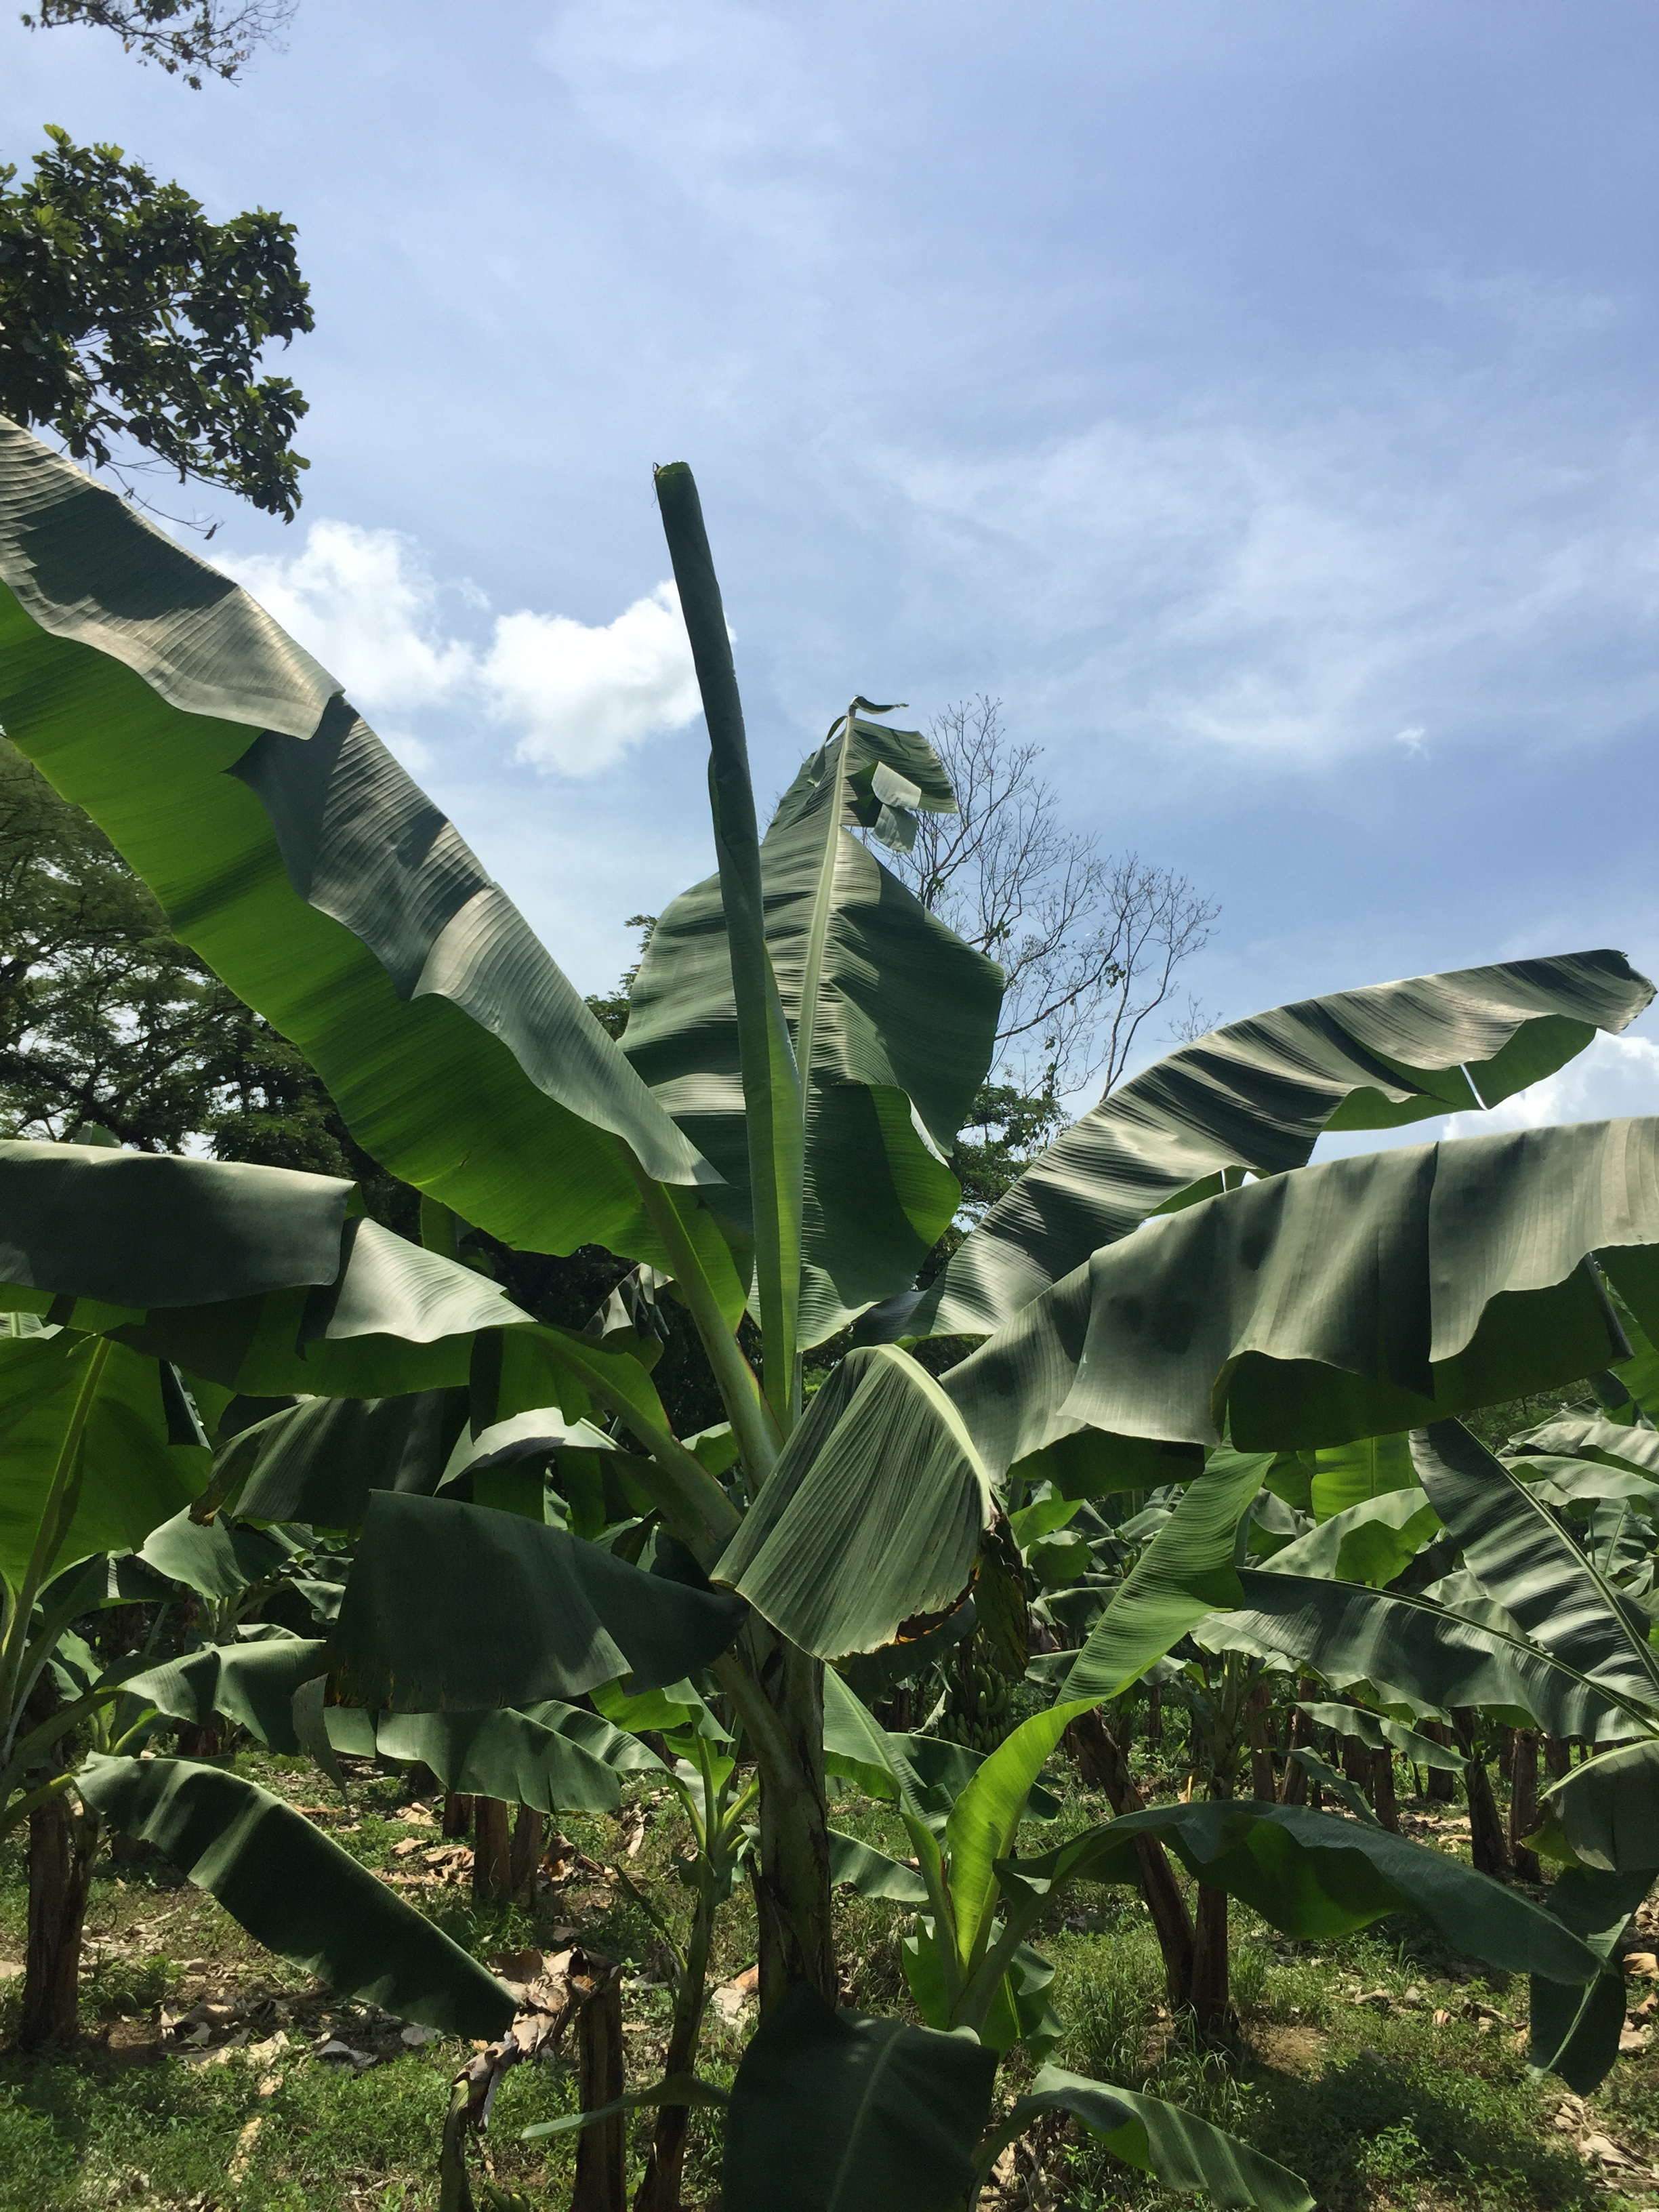candleleafs: (648, 460, 802, 1451)
